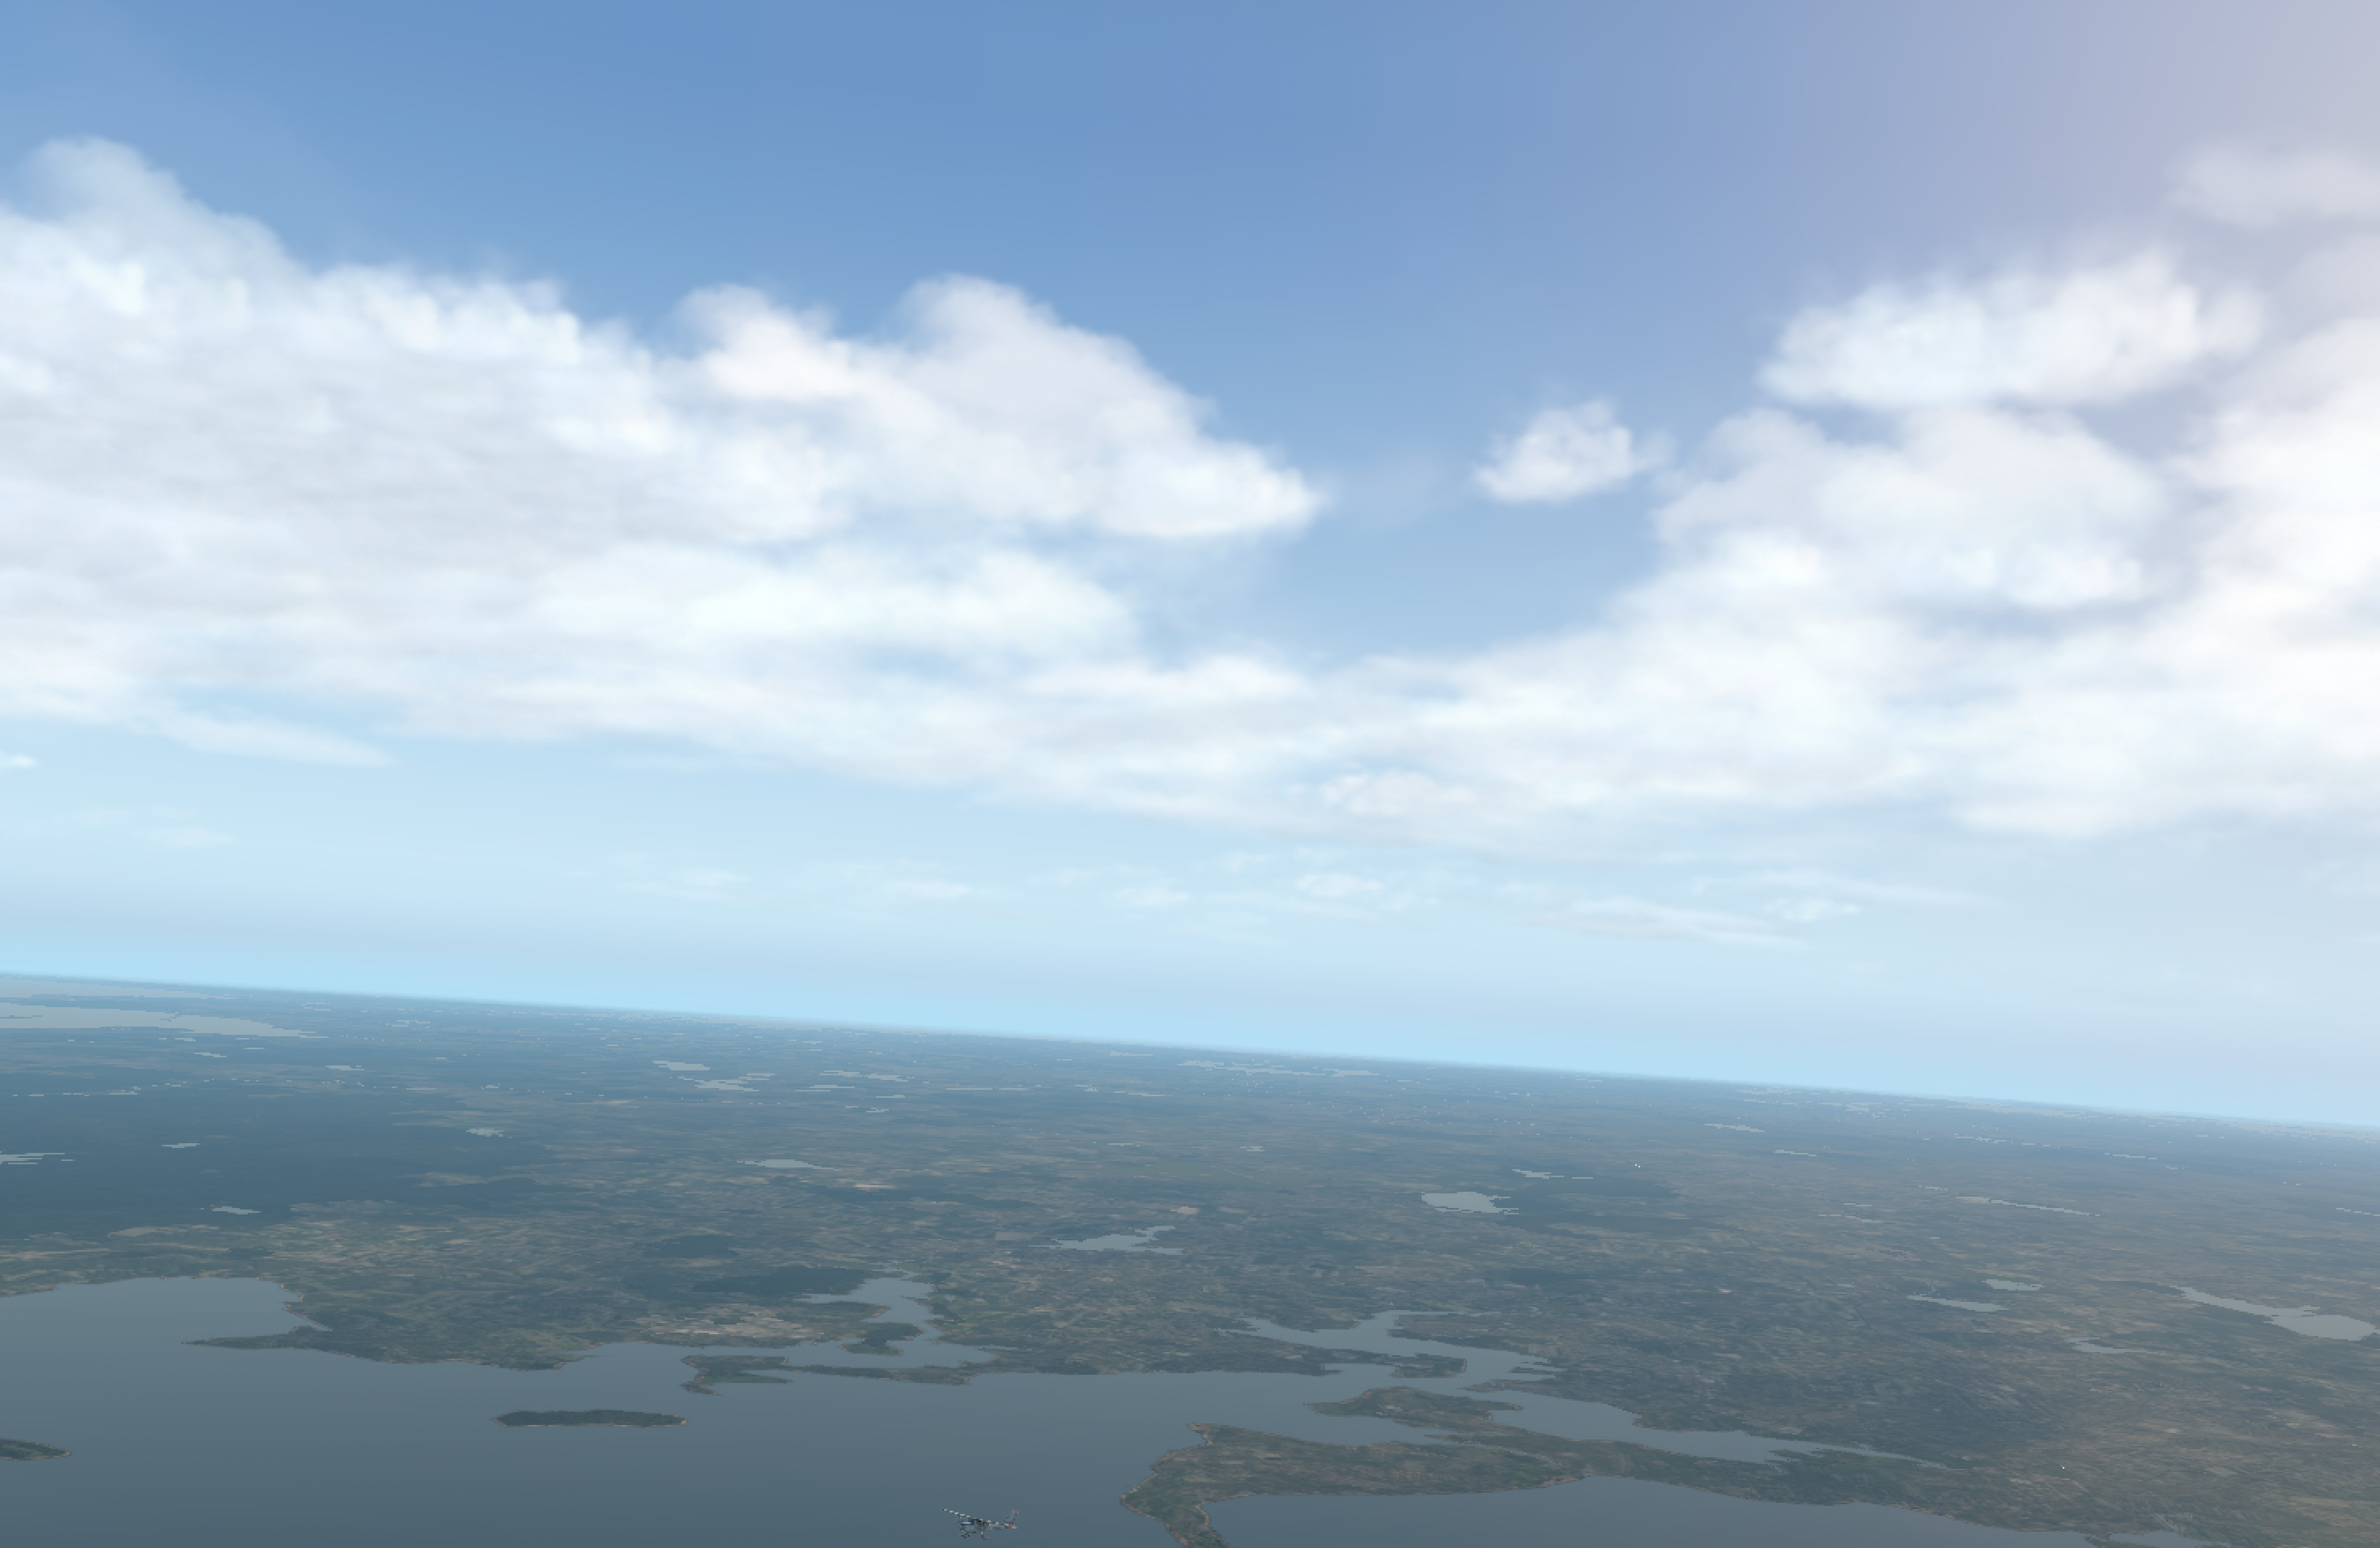aircraft: (942, 1512, 1011, 1538)
